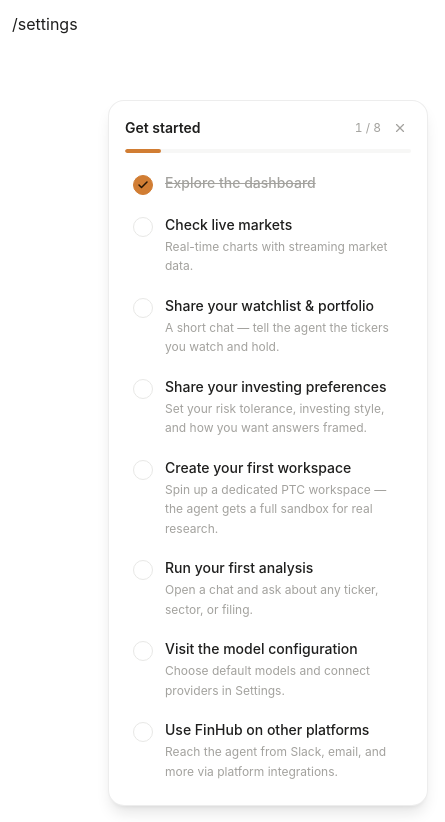
Scenario: GettingStartedCard › clicking a pending task navigates to its target
Click the button "Run your first analysis": (268, 588) left=125, top=550, right=411, bottom=627
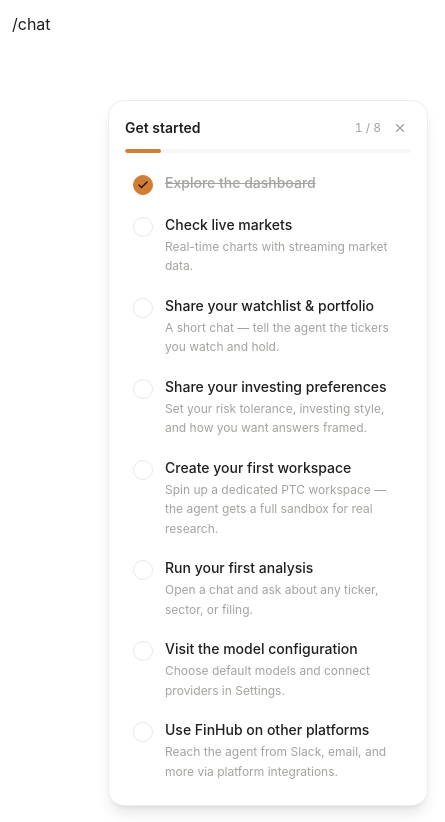
expect the text with test id "loc" reads "/chat": met, box left=12, top=14, right=51, bottom=34
